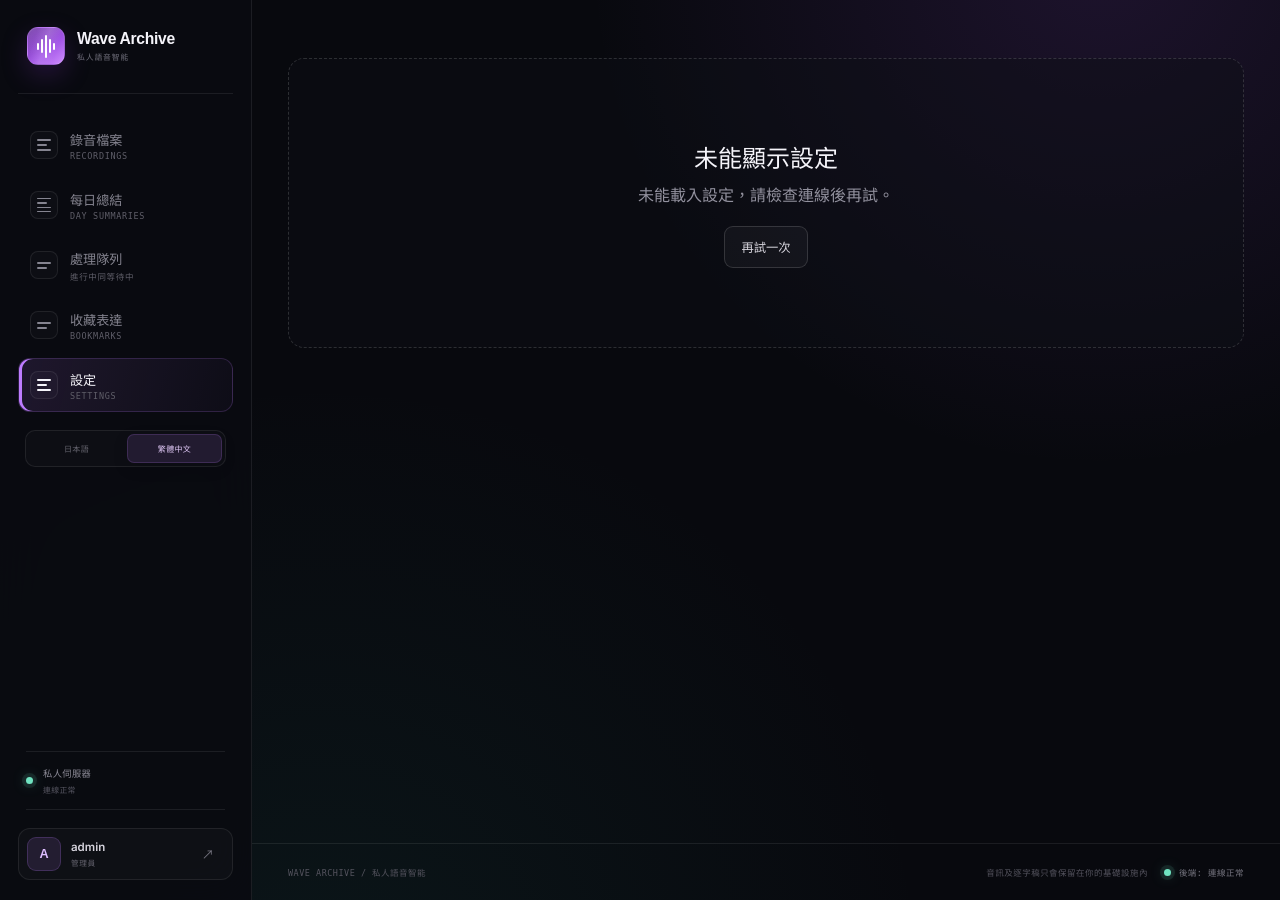
it: settings page › offers a retry when the switches cannot be read
Expected: the heading "未能顯示設定" is shown, [694,138,838,174]
Click the button "再試一次" at (766, 246), box [724,226,808,268]
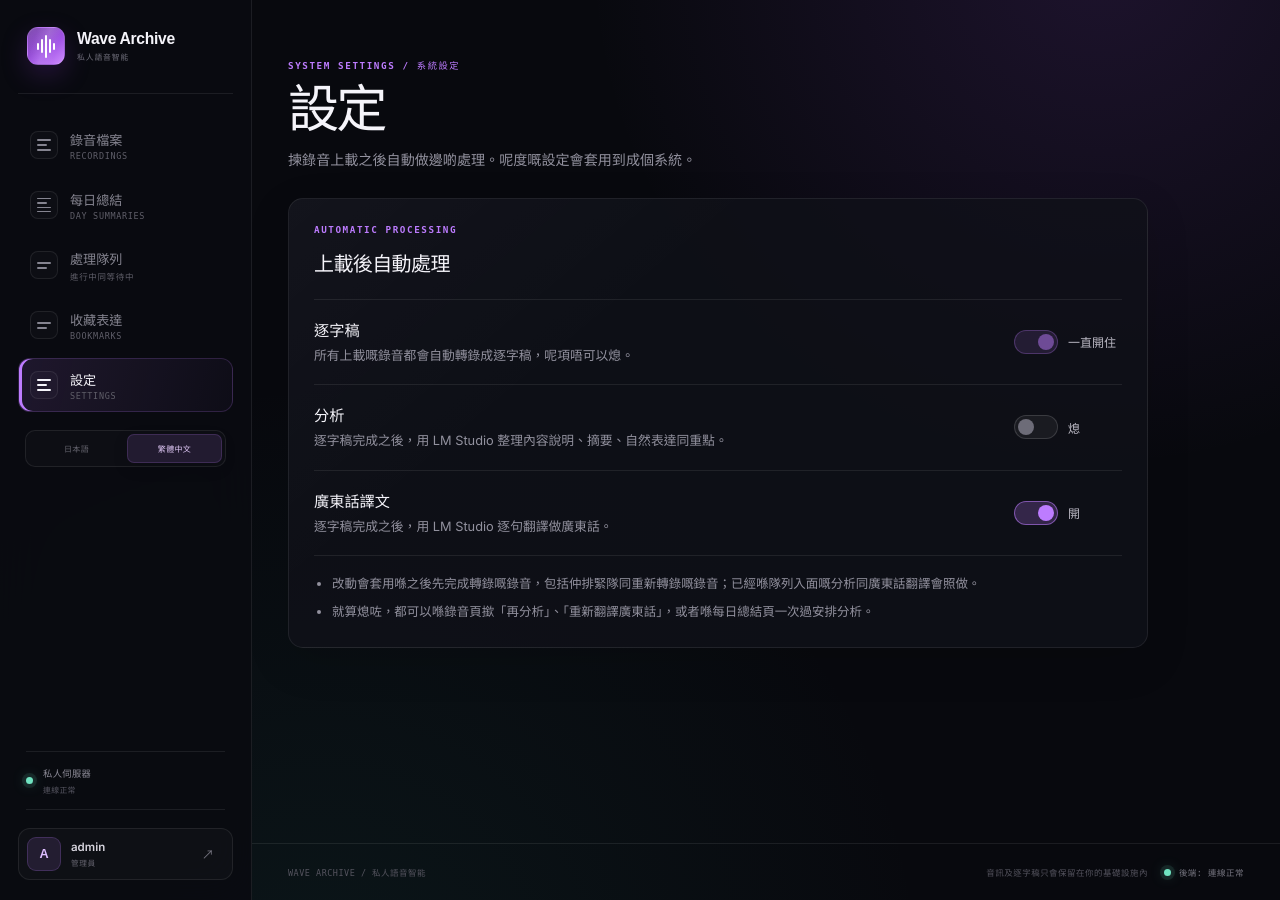
Expected: the switch named "分析" is not checked, [1014,415,1080,439]
